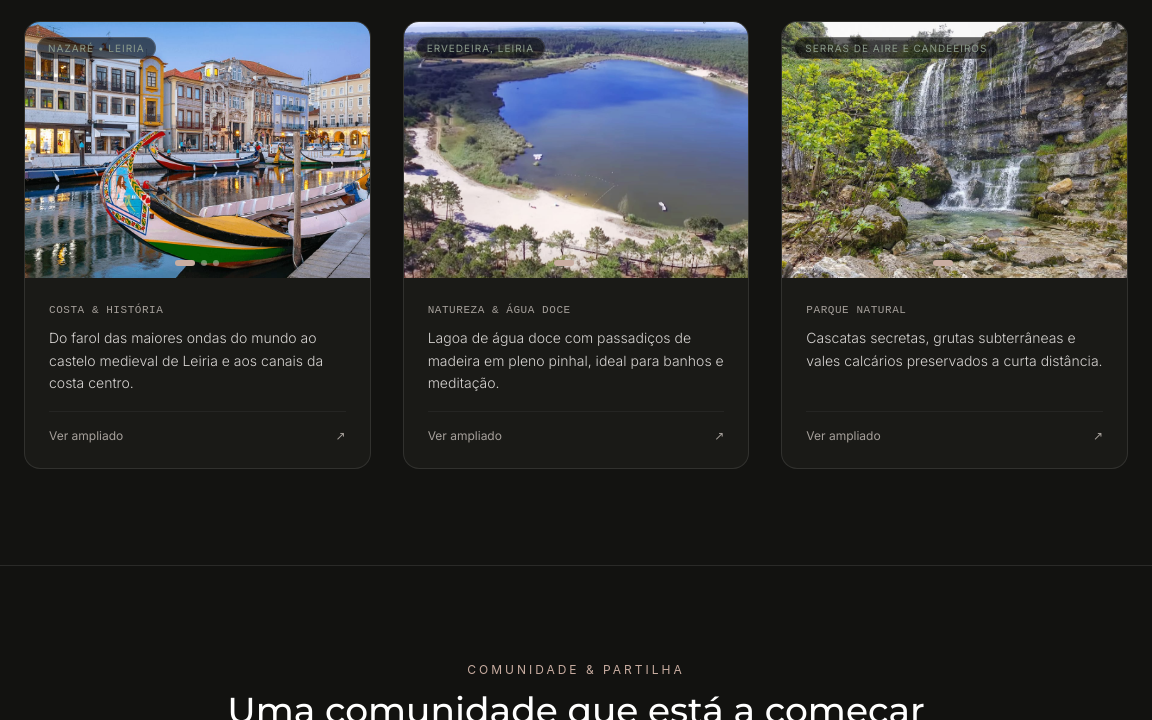
Test: PortugalPage › opens and closes the image lightbox modal when clicking a photo
The width and height of the screenshot is (1152, 720).
(page scrolled)
Step 1. Click the text "Do farol das maiores ondas" → (197, 361), box [49,327,346,395]
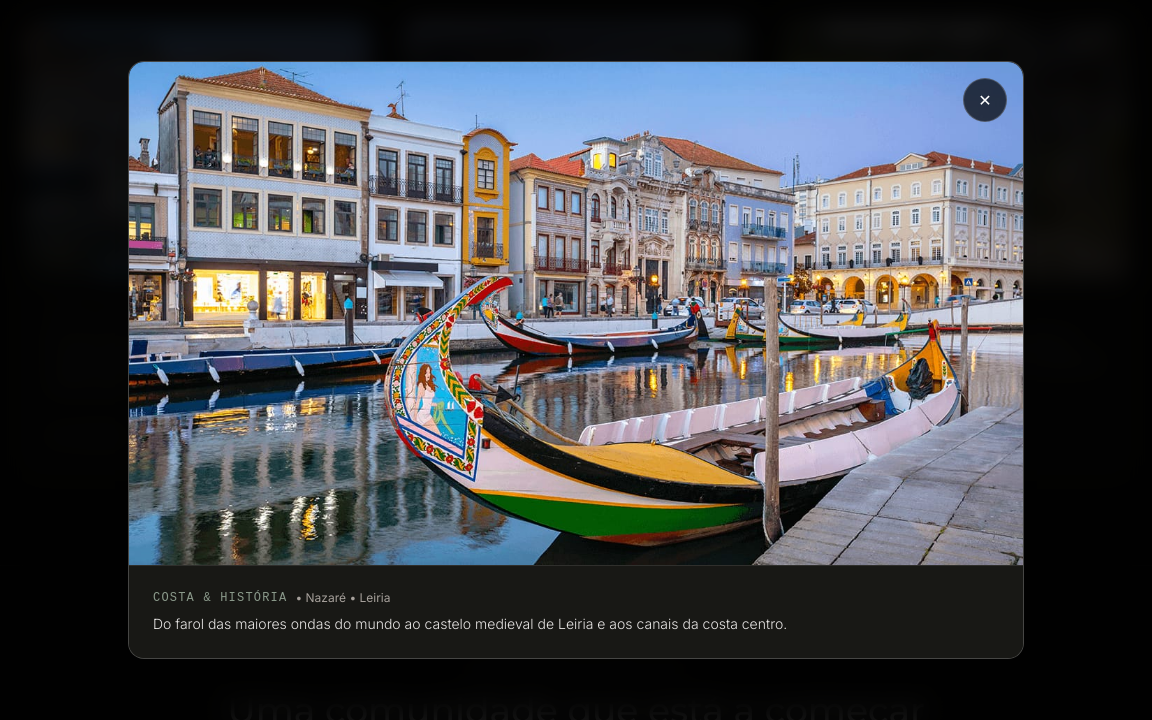
Expected: the dialog is shown
# Close button
Step 2. Click the button named "Fechar fotografia" → (985, 100), box [963,78,1007,122]
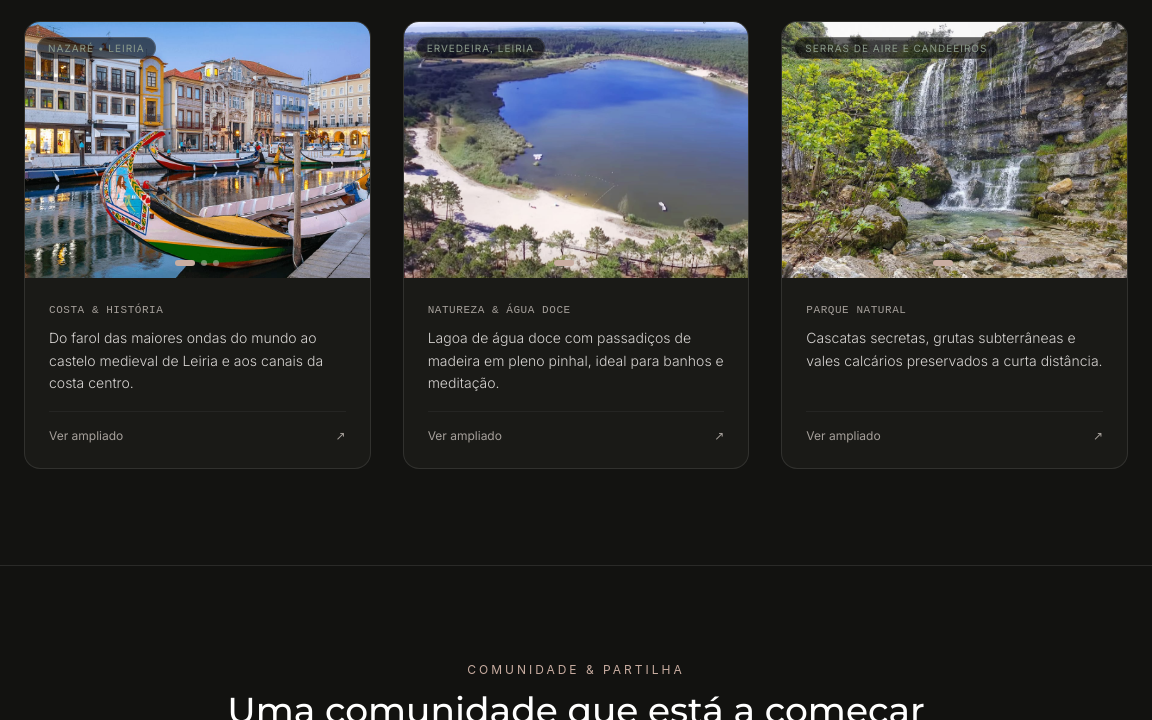
Expected: the dialog is gone
